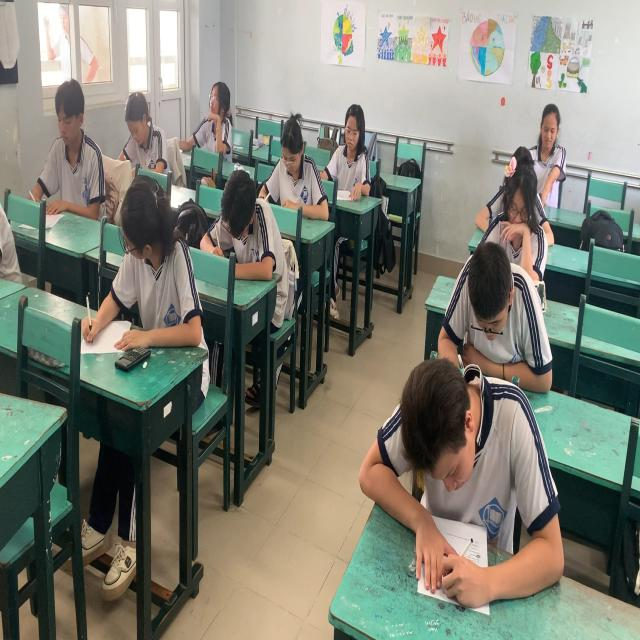not_cheating: (389, 348, 563, 496), (106, 154, 202, 368), (452, 236, 547, 353), (212, 163, 281, 291), (48, 62, 100, 216), (496, 157, 543, 275), (270, 100, 319, 213), (117, 74, 171, 168), (327, 85, 368, 190), (530, 85, 571, 188), (203, 56, 240, 165)
